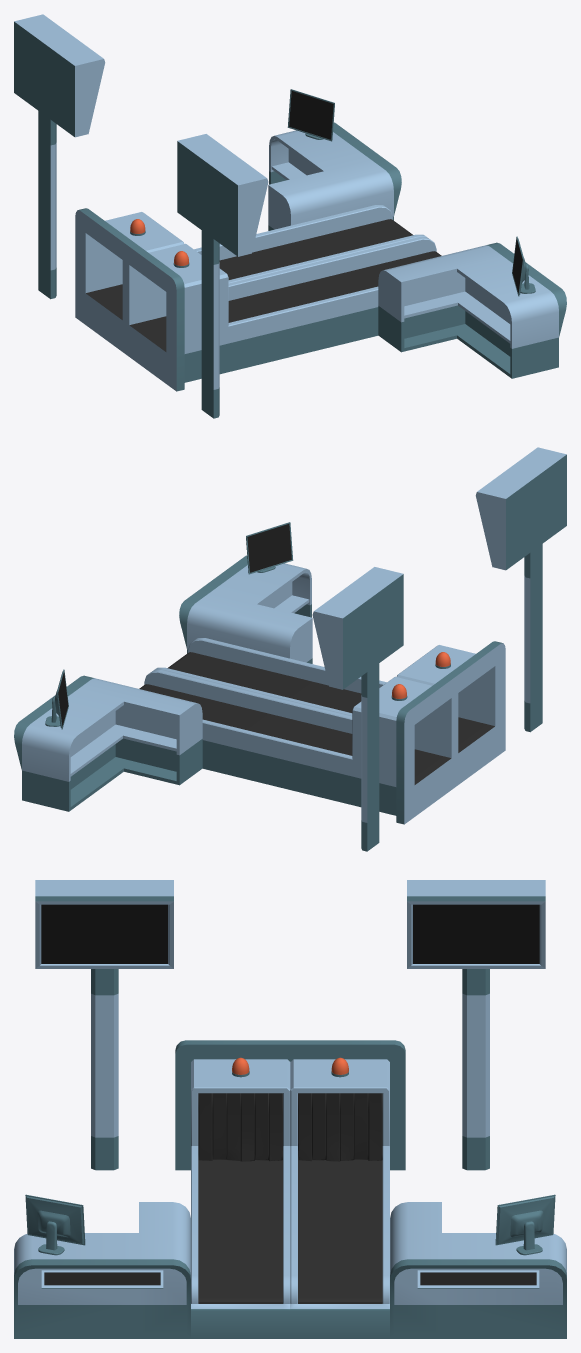
Rendered from 08_CheckInDesk_AIRPORT_0.obj.
The picture shows the model from 3 angles, top to bottom: view 1: azimuth 30°, elevation 25°; view 2: azimuth 150°, elevation 25°; view 3: azimuth 270°, elevation 25°; orthographic projection. The views are drawn at different scales.
Visible parts, largest first — view 1: 08.CheckInDesk_AIRPORT_0; view 2: 08.CheckInDesk_AIRPORT_0; view 3: 08.CheckInDesk_AIRPORT_0.
Boxes of the visible parts, box(x1,y1,x2,y2) form: 08.CheckInDesk_AIRPORT_0: box(14, 14, 566, 418); 08.CheckInDesk_AIRPORT_0: box(14, 447, 566, 851); 08.CheckInDesk_AIRPORT_0: box(14, 880, 566, 1338).
Size of the model in its own units: 4.78 by 3.55 by 6.23.
1 material, 1 textured.
